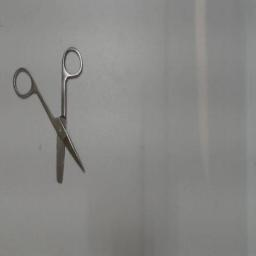Dressing Scissors: (7, 42, 89, 186)
